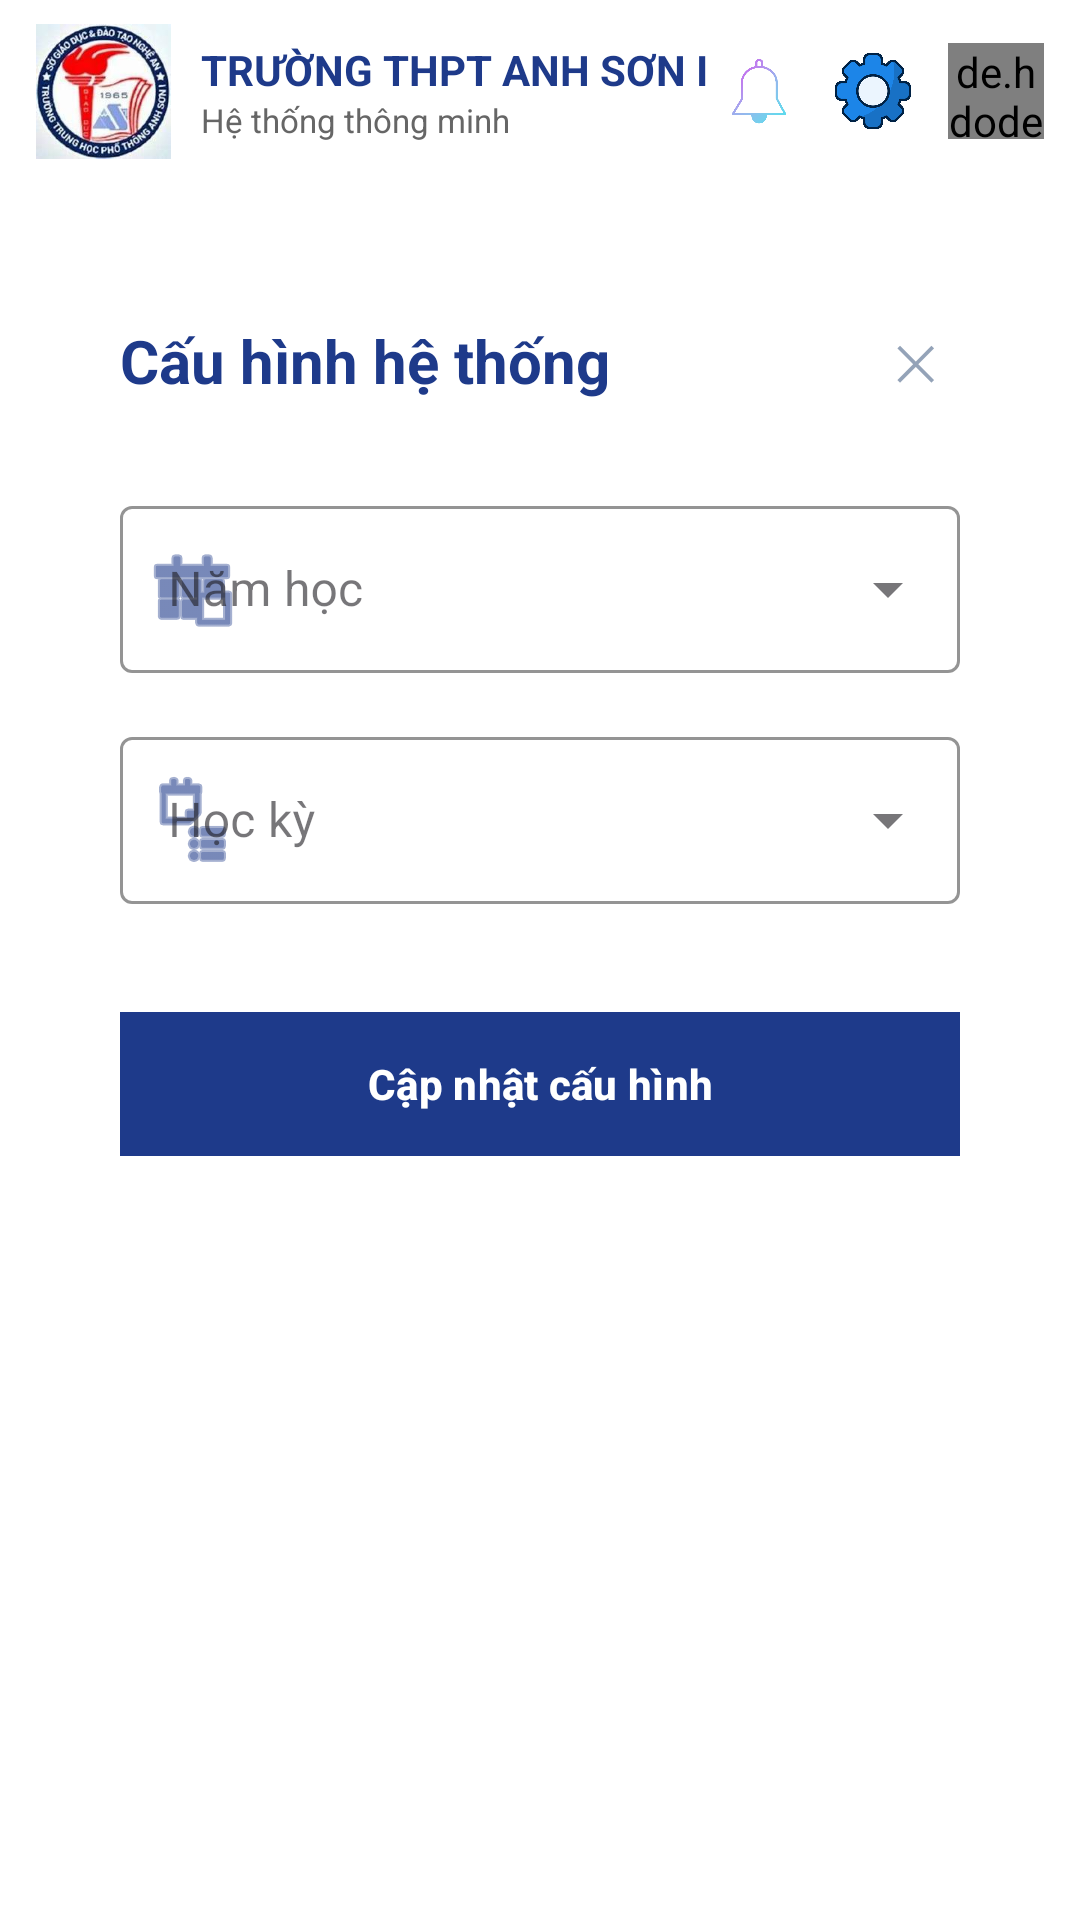

Icon bounding boxes for this 1080×1920 phone screenshot, format region(x1, y1, x2, y2):
Notification: region(732, 59, 786, 124)
Settings: region(835, 53, 911, 129)
